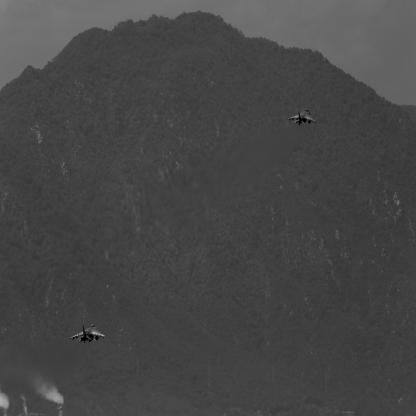AV8B: (71, 325, 107, 344), (288, 109, 318, 127)
